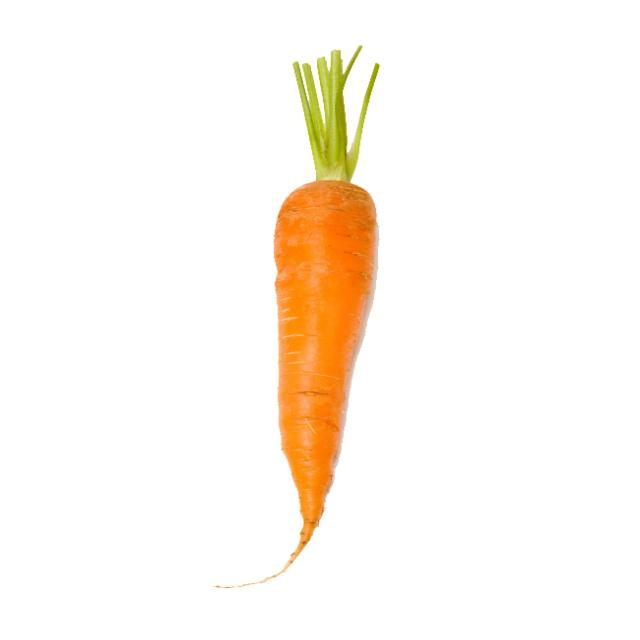Carrot: (249, 55, 416, 578)
